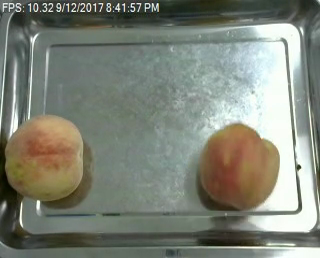Peach: (197, 122, 279, 211), (4, 113, 85, 201)
